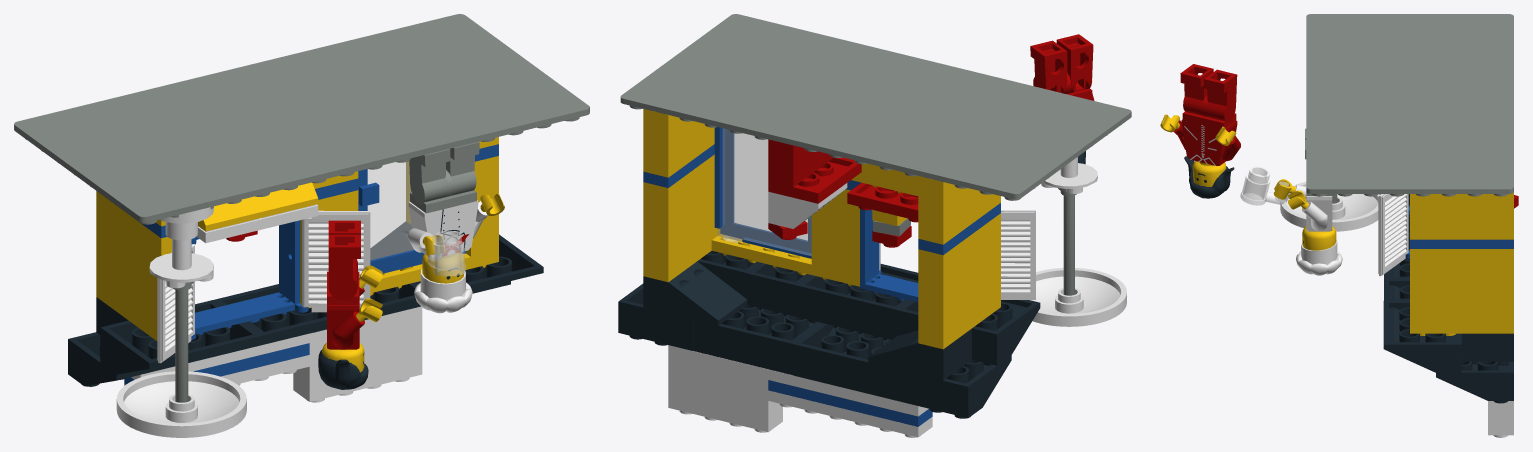
3 views of the same model, side by side, from view 1: azimuth 30°, elevation 25°; view 2: azimuth 150°, elevation 25°; view 3: azimuth 270°, elevation 25° (orthographic). The views are drawn at different scales.
Bounding box in the file's own units: 320 × 232 × 276.
